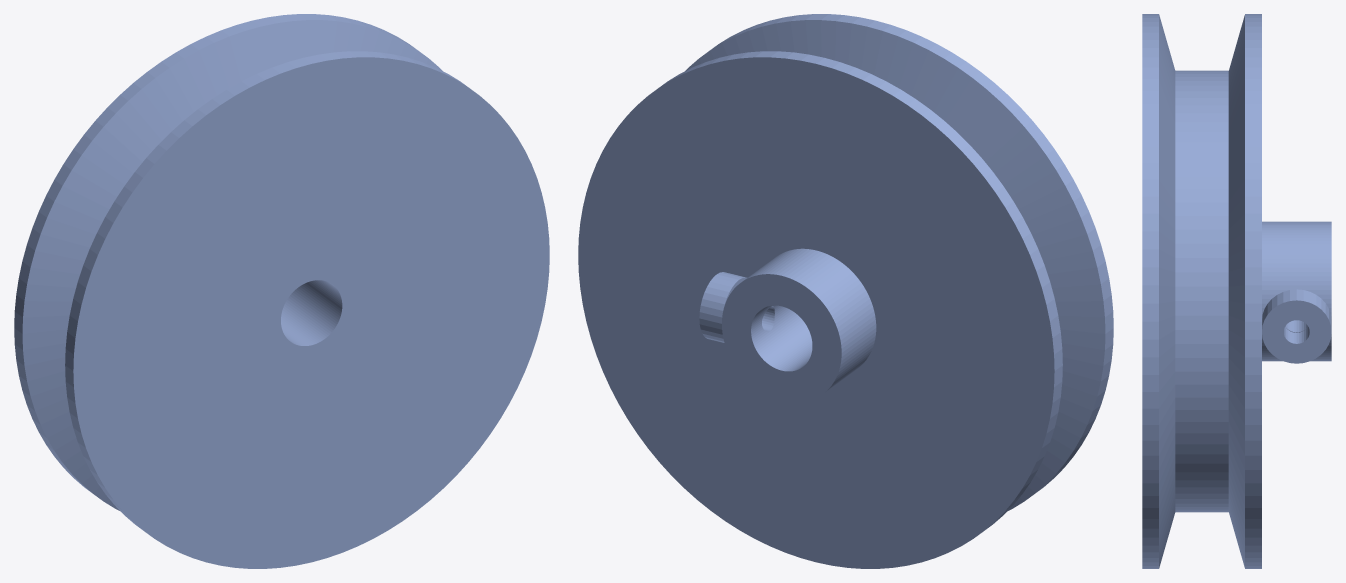
Rendered from v_belt_pulley_demo.glb.
3 renders of one model, left to right at view 1: azimuth 30°, elevation 25°; view 2: azimuth 150°, elevation 25°; view 3: azimuth 270°, elevation 25°, orthographic.
Parts seen in each view (by area): view 1: v_belt_pulley; view 2: v_belt_pulley; view 3: v_belt_pulley.
Boxes of the visible parts, left/top/right/bottom form: v_belt_pulley: left=14, top=14, right=549, bottom=568; v_belt_pulley: left=578, top=14, right=1113, bottom=568; v_belt_pulley: left=1142, top=14, right=1331, bottom=568.
Bounding box in the file's own units: 63.6 × 63.6 × 21.7.
